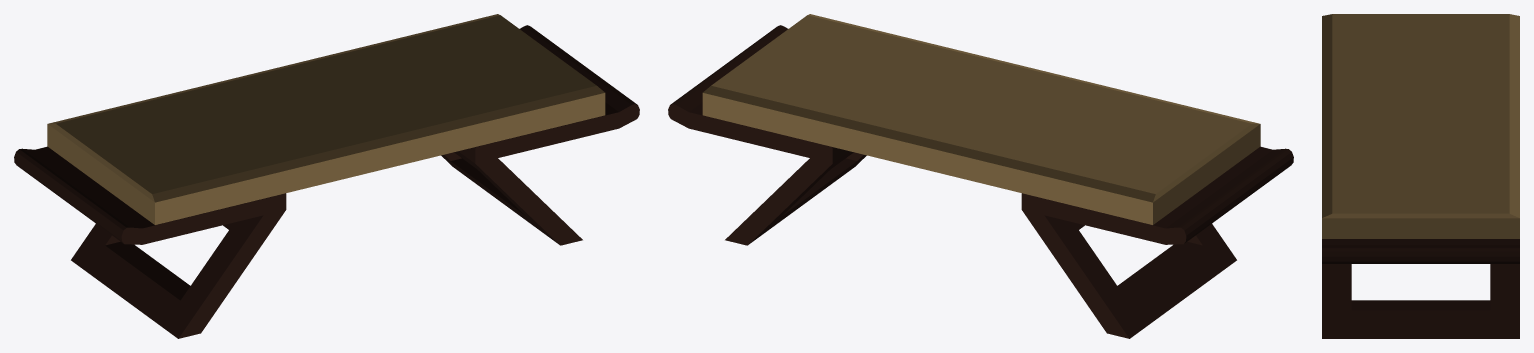
The model's file is Table 2.fbx.
3 renders of one model, left to right at view 1: azimuth 30°, elevation 25°; view 2: azimuth 150°, elevation 25°; view 3: azimuth 270°, elevation 25°, orthographic. The views are drawn at different scales.
Visible parts, largest first — view 1: Node 0; view 2: Node 0; view 3: Node 0.
Part boxes in pixels (bbox=[...]): Node 0: bbox=[14, 14, 639, 338]; Node 0: bbox=[668, 14, 1293, 338]; Node 0: bbox=[1322, 14, 1519, 338].
Size of the model in its own units: 0.7443 by 0.5557 by 2.07.
